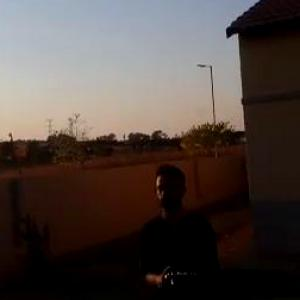follow: (133, 157, 225, 299)
